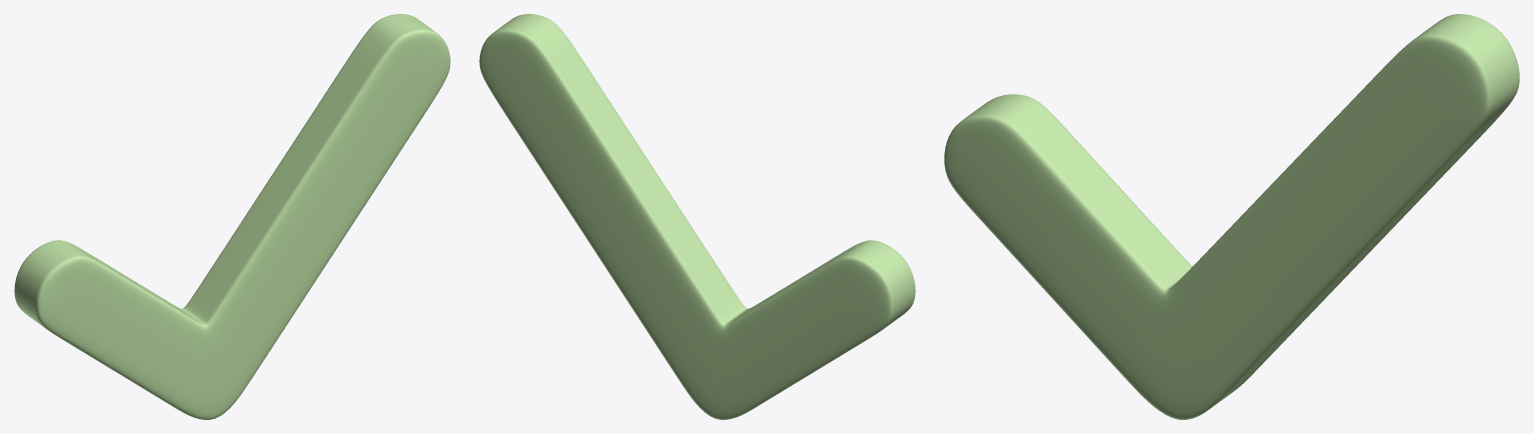
File: tick.glb
3 views of the same model, side by side, from view 1: azimuth 30°, elevation 25°; view 2: azimuth 150°, elevation 25°; view 3: azimuth 330°, elevation 25° (orthographic). The views are drawn at different scales.
Visible parts, largest first — view 1: Tick; view 2: Tick; view 3: Tick.
Boxes of the visible parts, bbox=[...] form: Tick: bbox=[14, 14, 450, 419]; Tick: bbox=[479, 14, 915, 419]; Tick: bbox=[944, 14, 1519, 419].
Size of the model in its own units: 1.65 by 1.29 by 0.1824.
